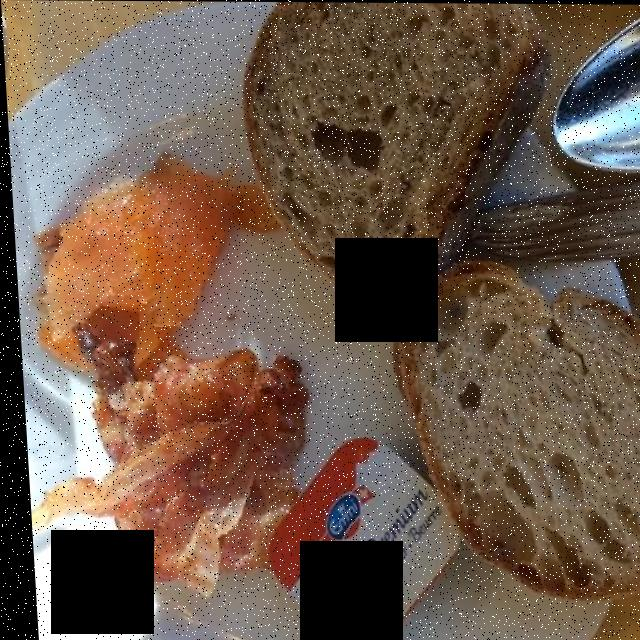bacon-frying: (43, 344, 304, 602)
bread-wholemeal: (243, 6, 640, 594)
butter: (238, 428, 437, 636)
salmon-smoked: (35, 161, 261, 368)
